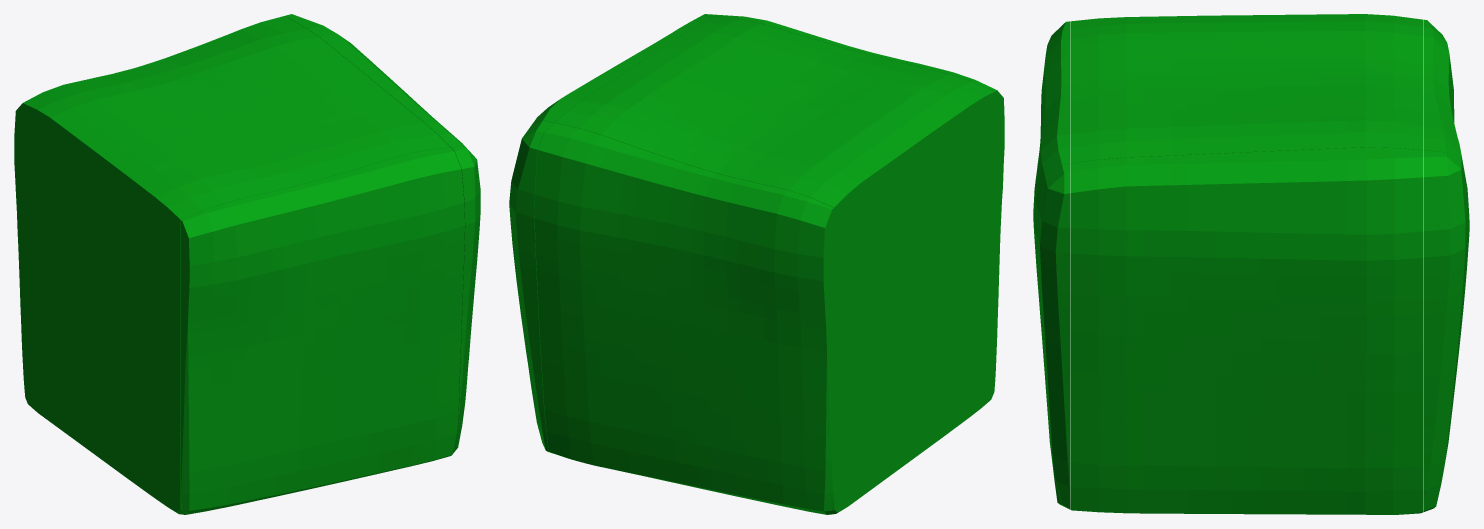
The model's file is 4by10beveledsubdivided.005.fbx.
3 renders of one model, left to right at view 1: azimuth 30°, elevation 25°; view 2: azimuth 150°, elevation 25°; view 3: azimuth 270°, elevation 25°, orthographic. The views are drawn at different scales.
Parts seen in each view (by area): view 1: 4by10beveledsubdivided.005; view 2: 4by10beveledsubdivided.005; view 3: 4by10beveledsubdivided.005.
Part boxes in pixels (x1=…): 4by10beveledsubdivided.005: x1=14, y1=14, x2=480, y2=514; 4by10beveledsubdivided.005: x1=509, y1=14, x2=1004, y2=514; 4by10beveledsubdivided.005: x1=1033, y1=14, x2=1469, y2=514.
Size of the model in its own units: 231 by 227 by 248.
